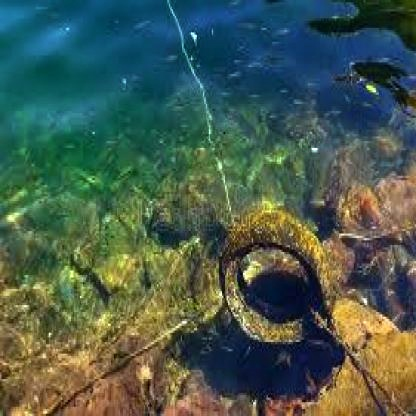tire: (234, 192, 332, 360)
